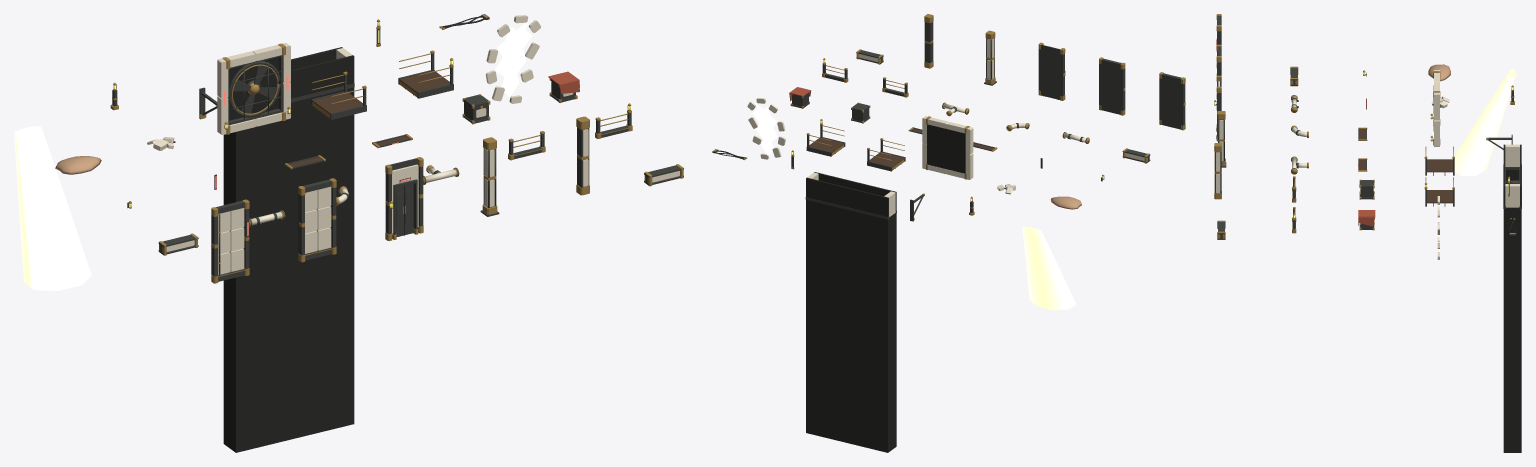
The model's file is kit_ruins_b1.glb.
3 views of the same model, side by side, from view 1: azimuth 30°, elevation 25°; view 2: azimuth 150°, elevation 25°; view 3: azimuth 270°, elevation 25° (orthographic). The views are drawn at different scales.
Parts seen in each view (by area): view 1: b1_pit, b1_shaft, b1_fan, b1_wall_plain, b1_wall, b1_door, b1_crack, b1_walkway_lamp, b1_walkway, b1_pillar, b1_corner, b1_crate_cloth (+2 smaller); view 2: b1_pit, b1_fan, b1_shaft, b1_wall_plain, b1_wall, b1_door, b1_crack, b1_walkway_lamp, b1_walkway, b1_corner, b1_pillar; view 3: b1_pit, b1_shaft, b1_fan, b1_walkway, b1_walkway_lamp, b1_corner, b1_pillar, b1_crate_cloth, b1_crate.
Part boxes in pixels (x1,y1,x2,y2): b1_pit: (223, 47, 354, 452); b1_shaft: (14, 126, 91, 290); b1_fan: (217, 43, 290, 135); b1_wall_plain: (298, 178, 336, 262); b1_wall: (211, 199, 249, 283); b1_door: (385, 157, 423, 240); b1_crack: (485, 15, 540, 103); b1_walkway_lamp: (398, 50, 453, 98); b1_walkway: (311, 71, 366, 119); b1_pillar: (480, 137, 499, 216); b1_corner: (576, 116, 589, 195); b1_crate_cloth: (548, 71, 579, 102); b1_pit: (805, 172, 896, 452); b1_fan: (922, 116, 973, 179); b1_shaft: (1022, 226, 1076, 310); b1_wall_plain: (1099, 57, 1125, 115); b1_wall: (1159, 72, 1185, 130); b1_door: (1038, 42, 1065, 100); b1_crack: (747, 98, 785, 159); b1_walkway_lamp: (806, 119, 845, 156); b1_walkway: (867, 138, 905, 171); b1_corner: (924, 14, 933, 68); b1_pillar: (984, 30, 996, 85); b1_pit: (1503, 144, 1521, 452); b1_shaft: (1454, 68, 1515, 175); b1_fan: (1430, 70, 1440, 146); b1_walkway: (1424, 146, 1454, 175); b1_walkway_lamp: (1424, 177, 1454, 206); b1_corner: (1214, 143, 1221, 199); b1_pillar: (1217, 111, 1226, 167); b1_crate_cloth: (1358, 210, 1375, 230); b1_crate: (1359, 179, 1374, 199).
Size of the model in its own units: 28.17 by 24.22 by 21.14.
